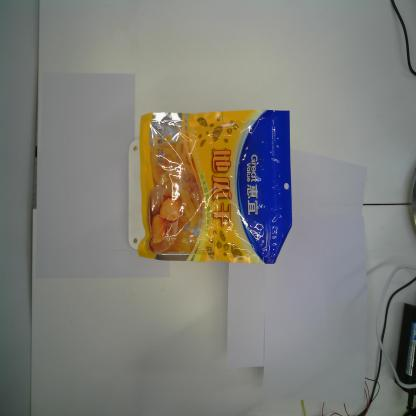Dried Fruit: (137, 107, 295, 264)
